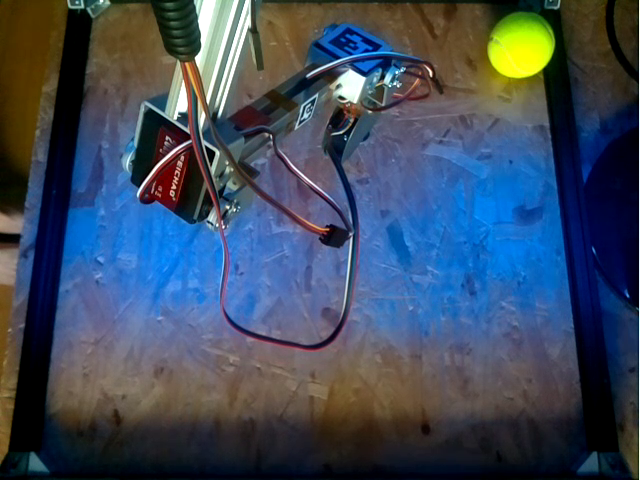tennis_ball: (484, 10, 556, 78)
